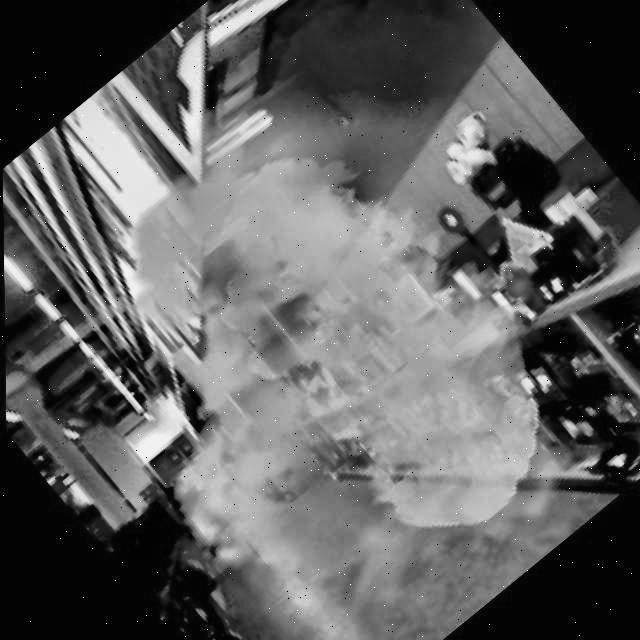Smoke: (3, 0, 640, 640)
